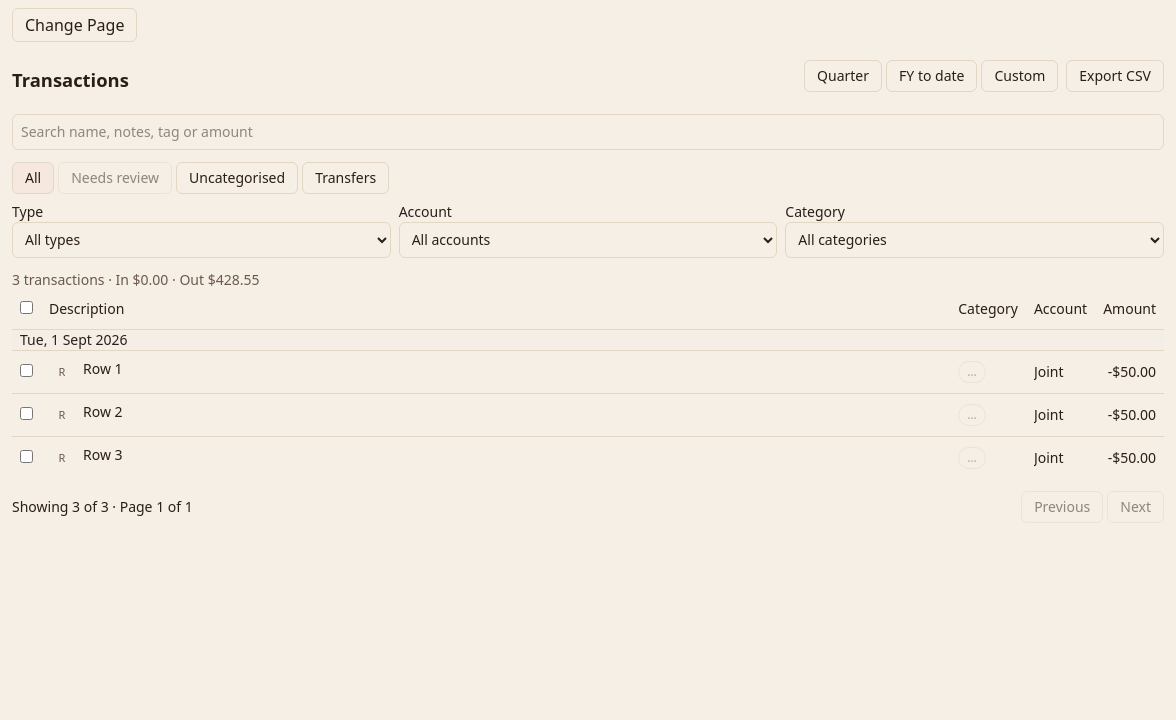
TransactionList bulk selection & actions › selects all page rows when header checkbox is clicked, shows toolbar, and supports indeterminate state
Expected: the button "Row 1" is shown, x1=83 y1=359 x2=123 y2=379
Expected: the text "3 transactions · In $0.00 · Out $428.55" is shown, x1=12 y1=270 x2=260 y2=289
Click header checkbox to select all
Step 1. Click the checkbox named "Select all transactions on this page" → x=26, y=308, box x1=20 y1=301 x2=33 y2=314
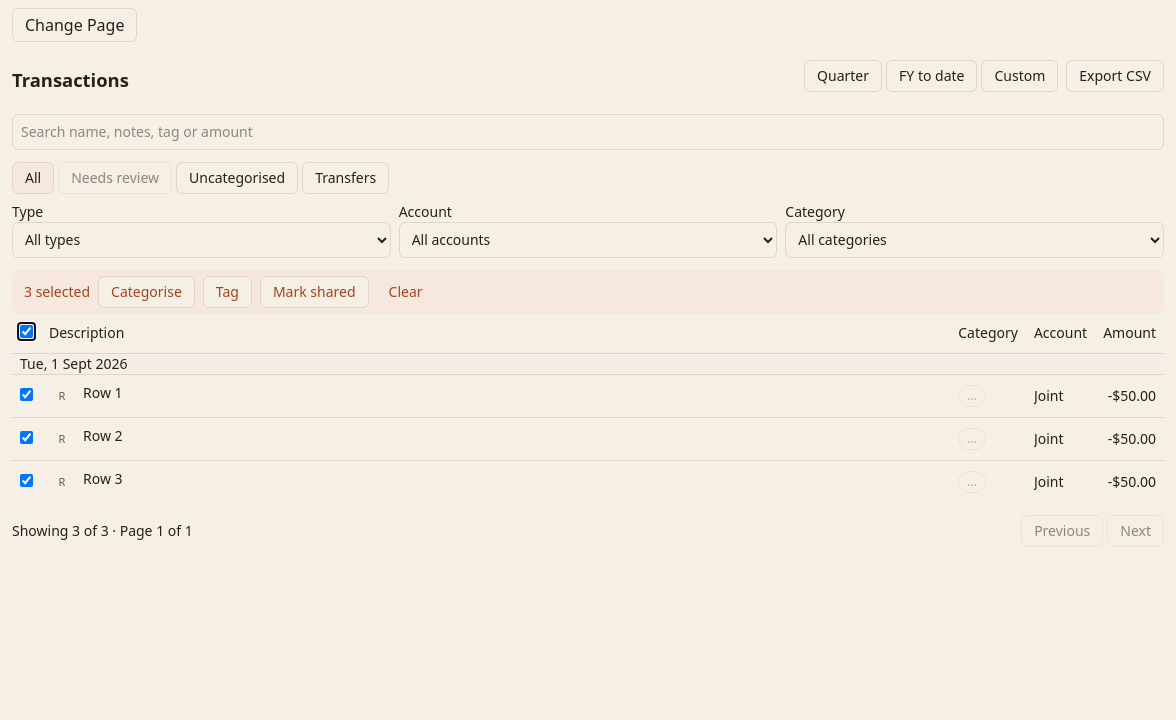
Result: the checkbox named "Select all transactions on this page" is checked at x1=20 y1=325 x2=33 y2=338
Result: the element named "Bulk actions" is shown at x1=12 y1=270 x2=1164 y2=314
Result: the text "3 selected" is shown at x1=24 y1=282 x2=90 y2=302
Step 2. Click the checkbox named "Select Row 2" → x=26, y=438, box x1=20 y1=431 x2=33 y2=444
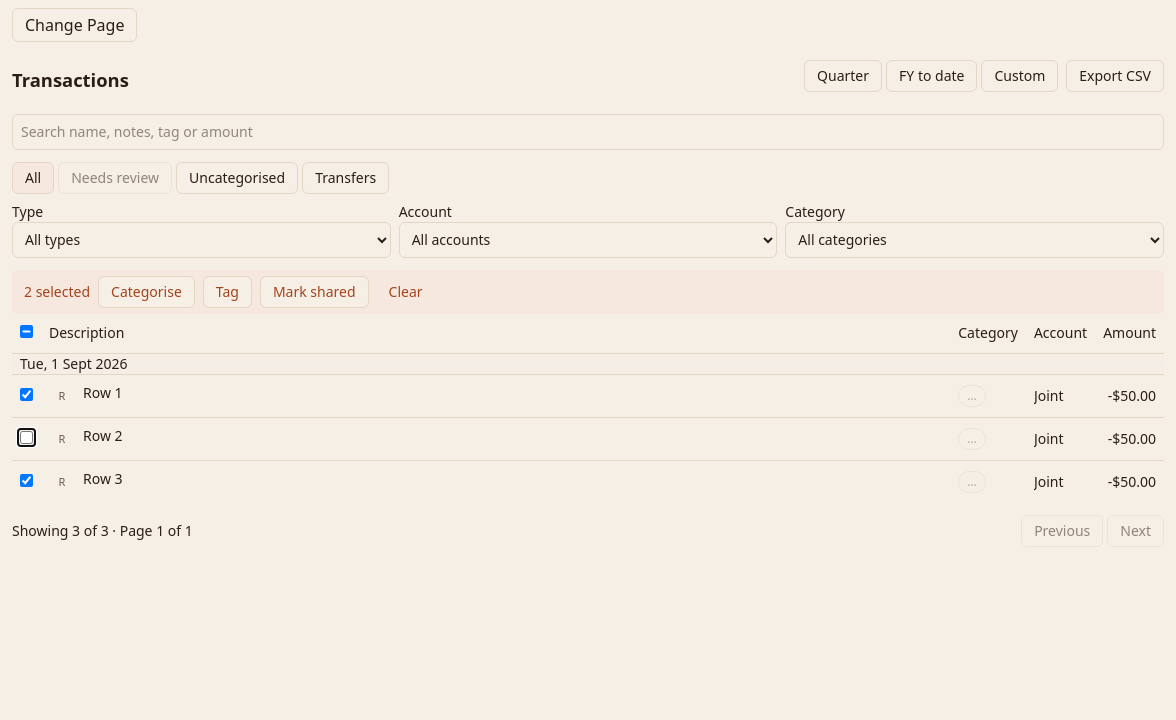
Result: the checkbox named "Select Row 2" is not checked at x1=20 y1=431 x2=33 y2=444
Result: the text "2 selected" is shown at x1=24 y1=282 x2=90 y2=302
Step 3. Click the checkbox named "Select all transactions on this page" → x=26, y=332, box x1=20 y1=325 x2=33 y2=338
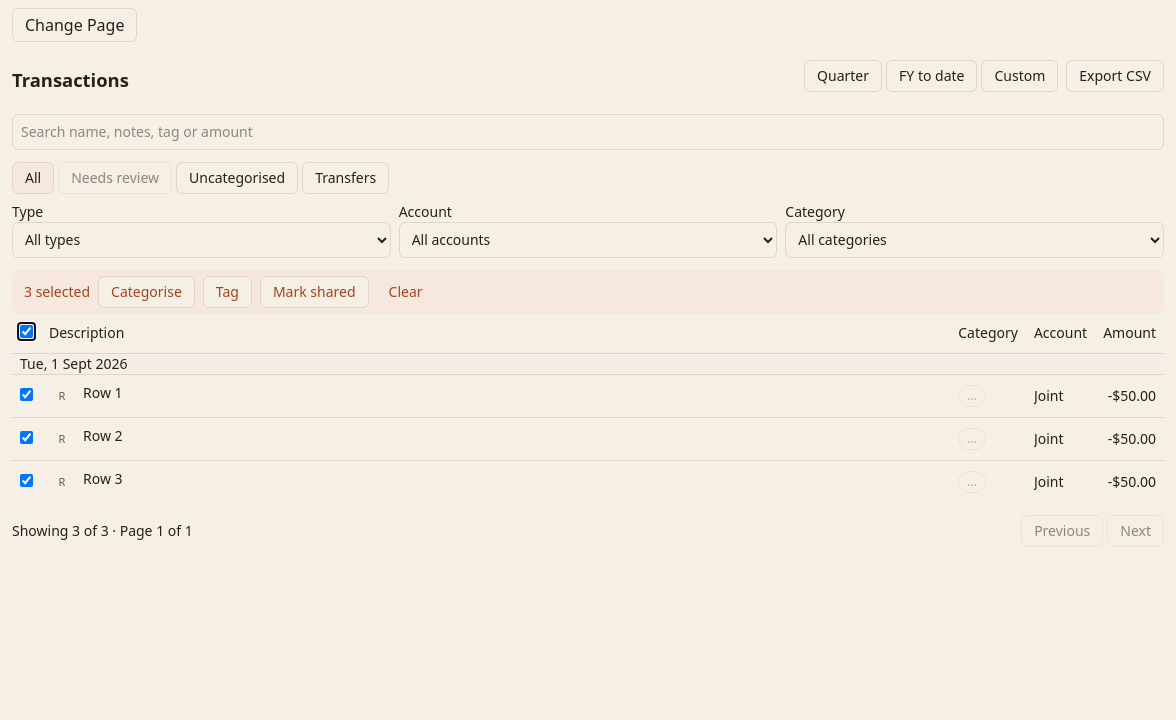
Result: the checkbox named "Select Row 2" is checked at x1=20 y1=431 x2=33 y2=444
Result: the text "3 selected" is shown at x1=24 y1=282 x2=90 y2=302
Step 4. Click the checkbox named "Select all transactions on this page" → x=26, y=332, box x1=20 y1=325 x2=33 y2=338
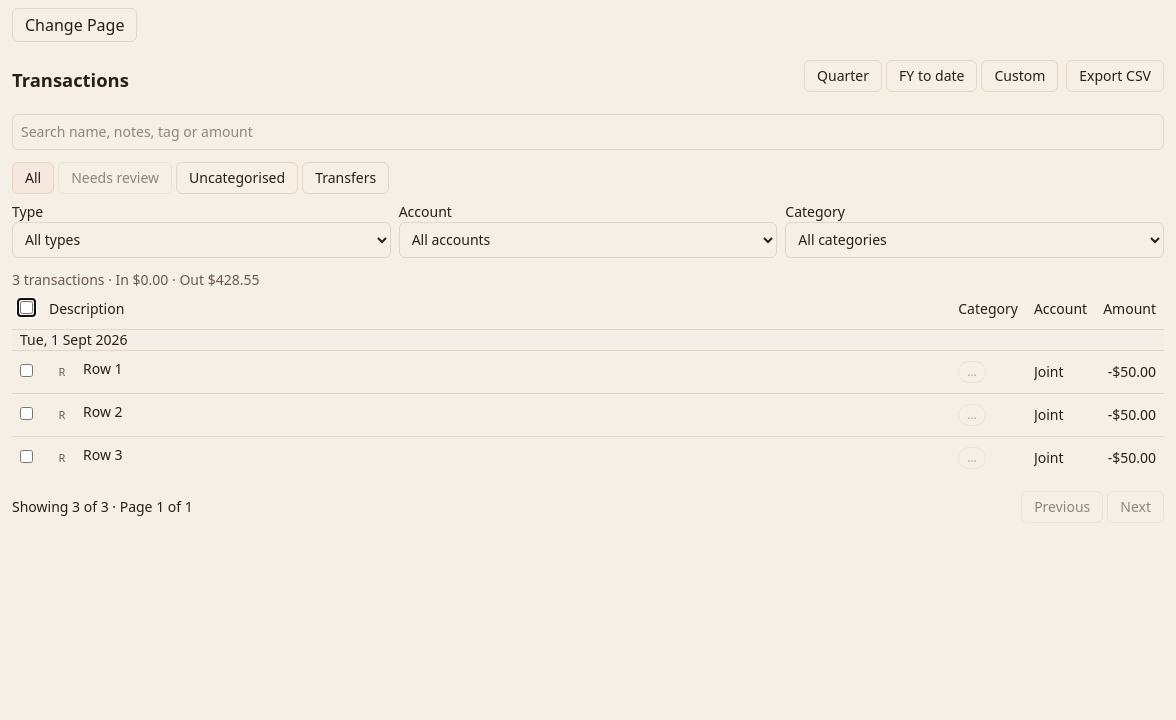
Result: the text "3 transactions · In $0.00 · Out $428.55" is shown at x1=12 y1=270 x2=260 y2=289
